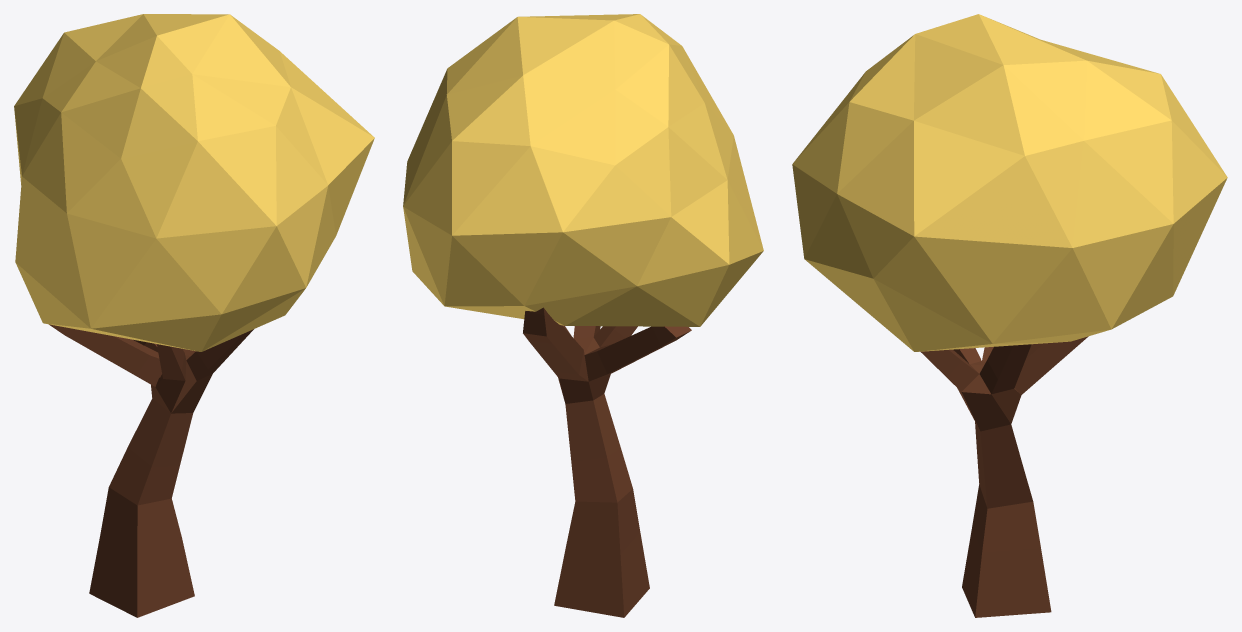
File: LemonTree2.fbx
The picture shows the model from 3 angles, left to right: view 1: azimuth 30°, elevation 25°; view 2: azimuth 150°, elevation 25°; view 3: azimuth 270°, elevation 25°; orthographic projection. The views are drawn at different scales.
Parts seen in each view (by area): view 1: LemonTree2; view 2: LemonTree2; view 3: LemonTree2.
Boxes of the visible parts, <box> form: LemonTree2: <box>14,14,374,617</box>; LemonTree2: <box>403,14,763,617</box>; LemonTree2: <box>792,14,1227,617</box>.
Bounding box in the file's own units: 248 × 428 × 287.
